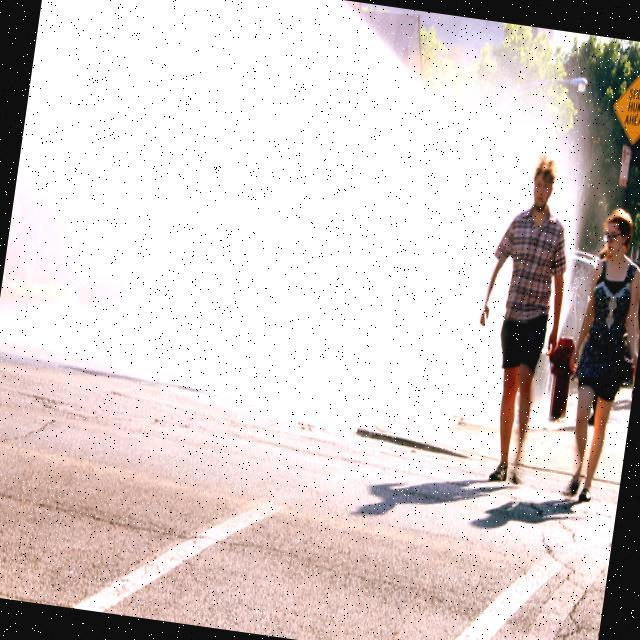fire_hydrant: (540, 335, 578, 422)
